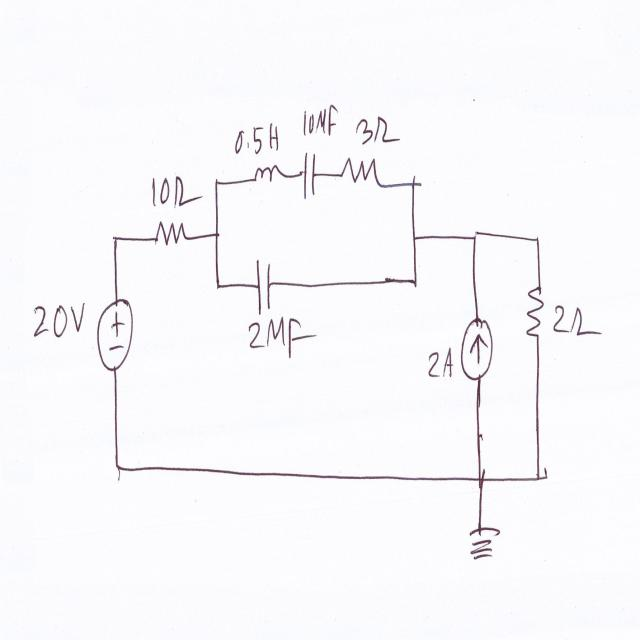capacitor: (251, 252, 278, 318), (300, 142, 318, 207)
current_source: (458, 317, 499, 385)
ground: (460, 516, 505, 572)
inductor: (251, 155, 287, 196)
resistor: (151, 214, 202, 262), (334, 158, 382, 193), (526, 274, 547, 352)
voltage_source: (90, 287, 140, 392)
